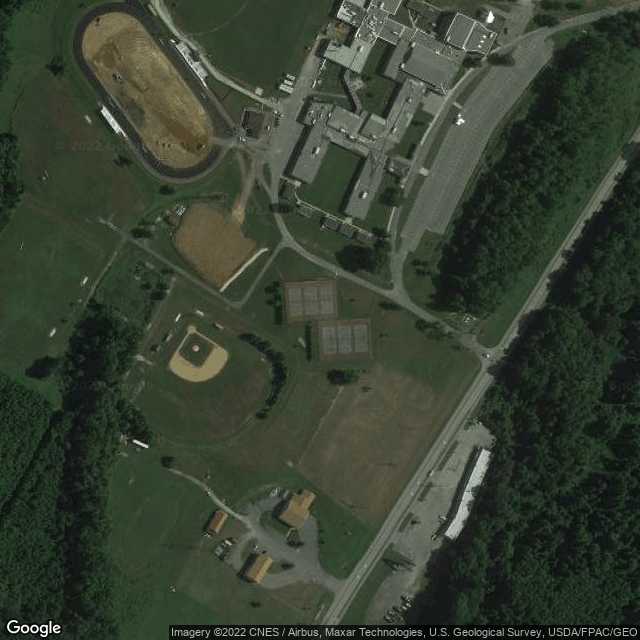Court: (338, 324, 353, 355), (322, 325, 337, 355), (354, 324, 369, 354), (303, 287, 318, 316), (288, 288, 302, 316), (320, 286, 333, 314)
